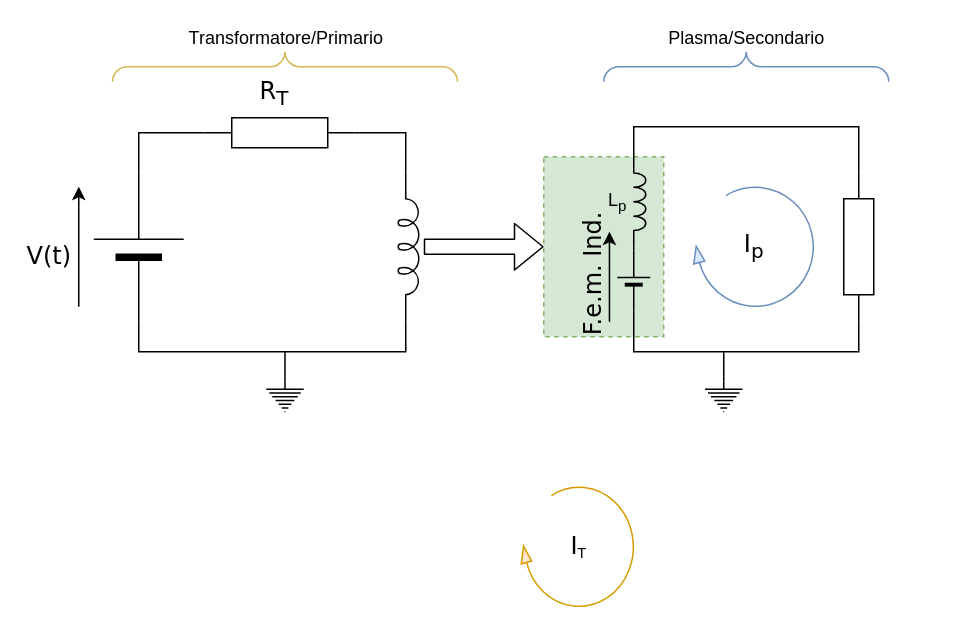
This 959x633 diagram has some shape labels left out. The centre of each missing label's shape, as x and y in pixels:
"L T" belongs at pixel 408 246.
"R p" belongs at pixel 858 246.
